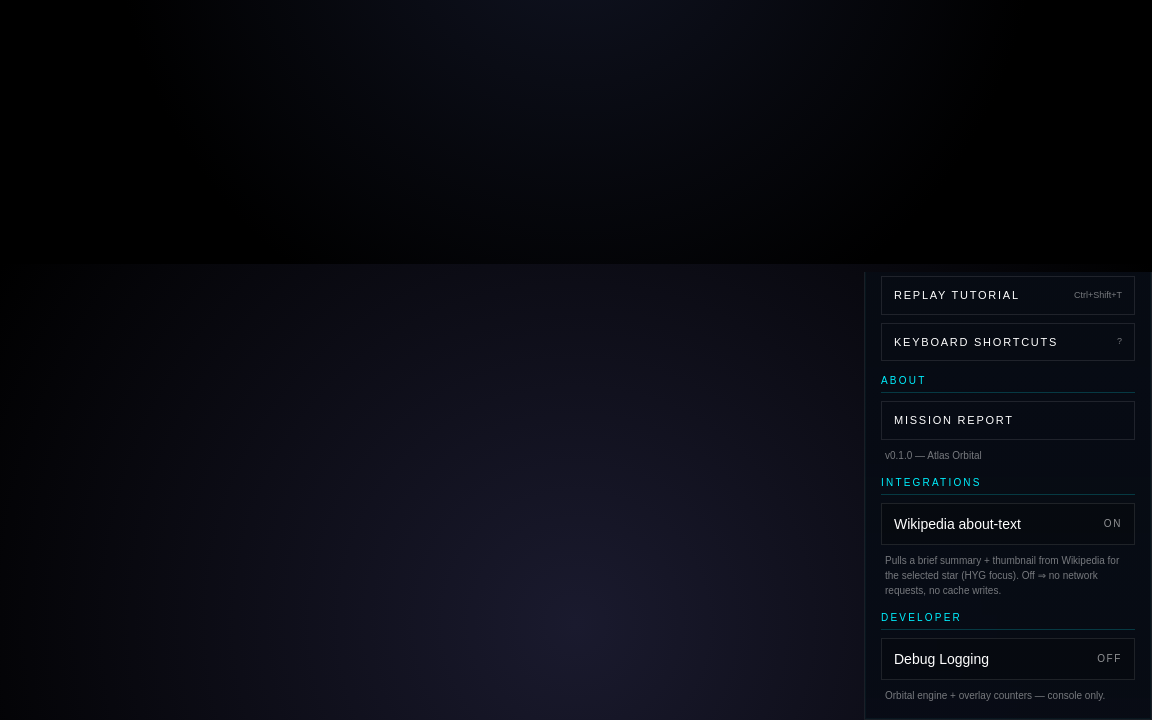
Test: GearPopover › Integrations / Wikipedia toggle (M6-G) › flips the store on click + reflects 'Off' immediately
(page scrolled)
Click the switch labelled "Wikipedia about-text On" at x=1008, y=524, box [881,502,1135,544]
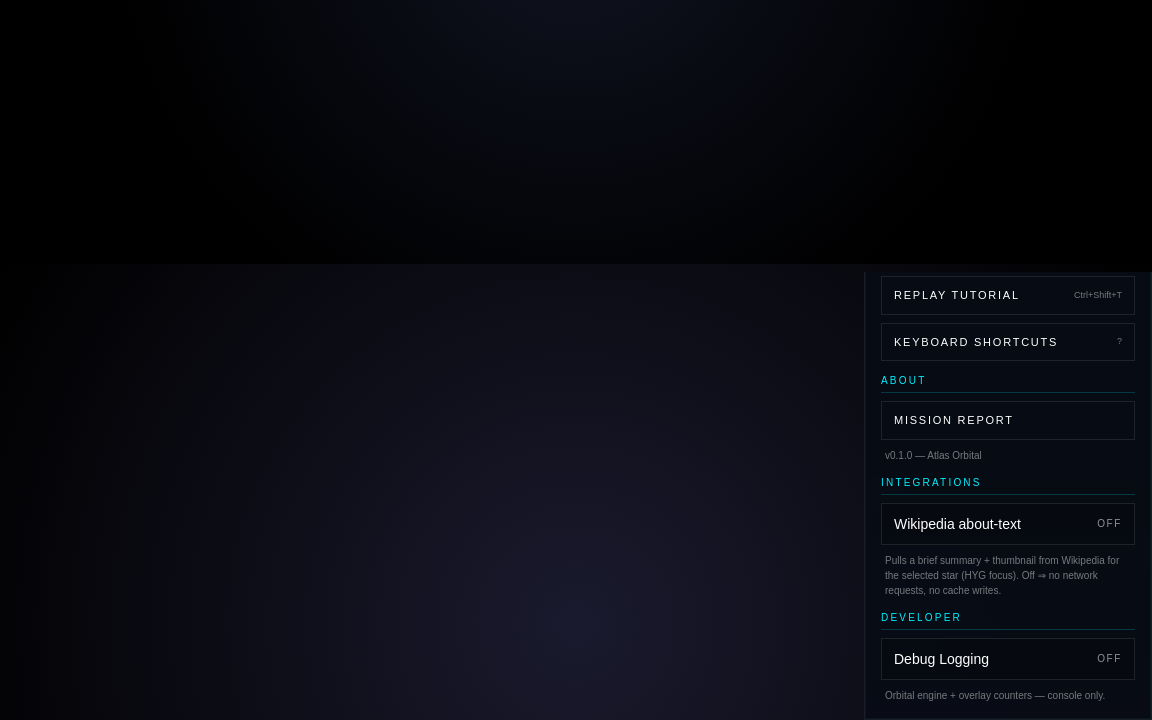
Result: the switch labelled "Wikipedia about-text Off" is shown at [881,502,1135,544]
